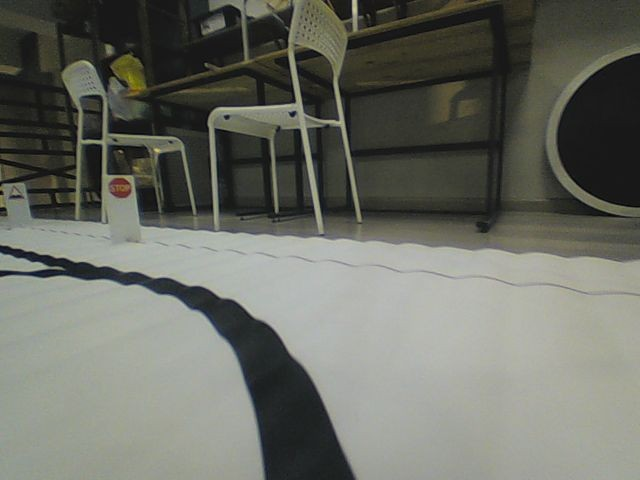Nerov: (7, 183, 25, 202)
Stop: (108, 177, 132, 198)
